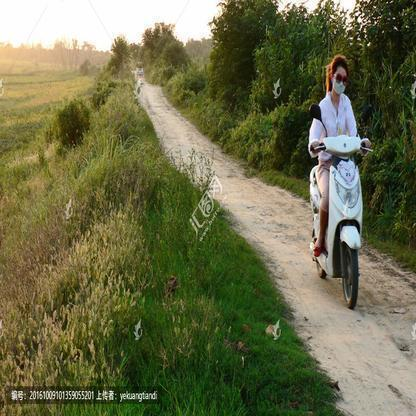target: (307, 54, 375, 309)
